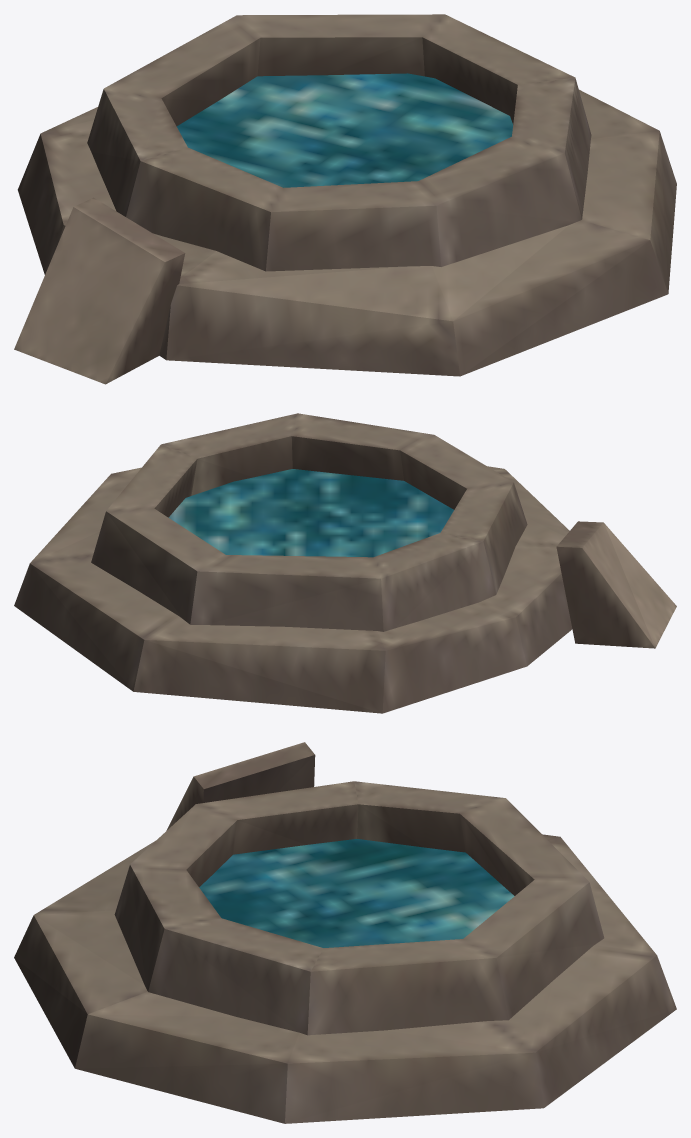
Rendered from Area_10_12.fbx.
3 views of the same model, one above another, from view 1: azimuth 30°, elevation 25°; view 2: azimuth 150°, elevation 25°; view 3: azimuth 270°, elevation 25° (orthographic). The views are drawn at different scales.
Parts seen in each view (by area): view 1: Area_10_12; view 2: Area_10_12; view 3: Area_10_12.
Part boxes in pixels (bbox=[...]): Area_10_12: bbox=[14, 14, 676, 384]; Area_10_12: bbox=[14, 413, 676, 713]; Area_10_12: bbox=[14, 742, 676, 1123].
Bounding box in the file's own units: 360 × 62.54 × 327.
